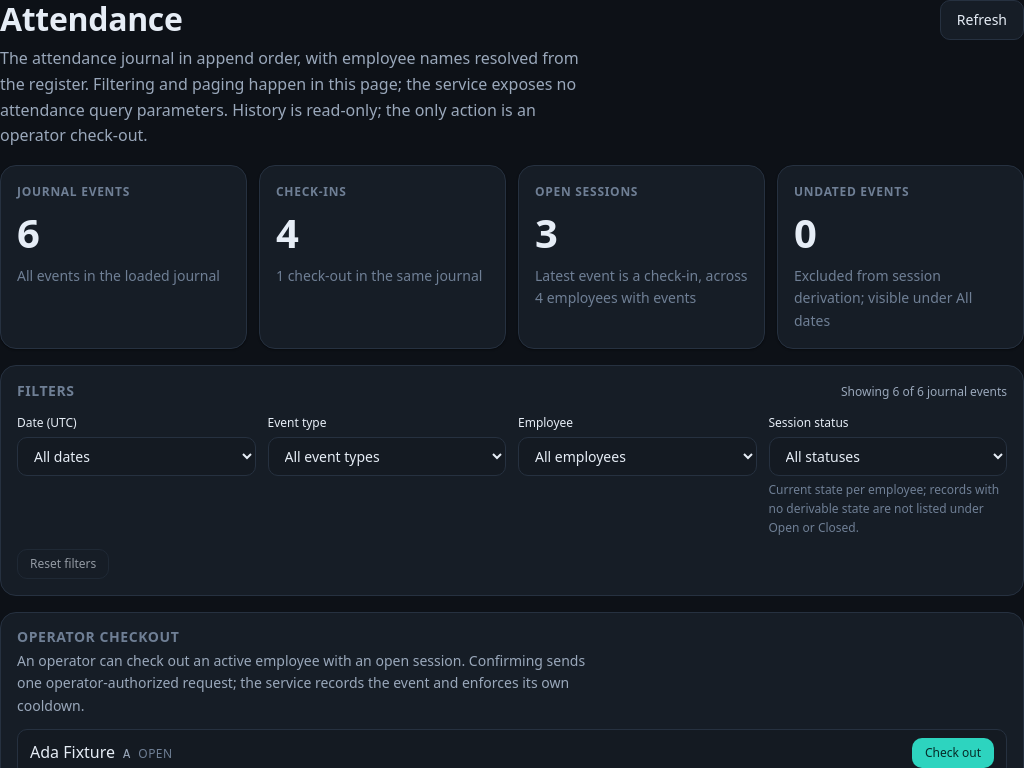
Test: checkout confirmation › cancel closes the dialog without sending a request
The width and height of the screenshot is (1024, 768).
Click the button with aria-label "Check out Ada Fixture": click(953, 753) [912,738,994,767]
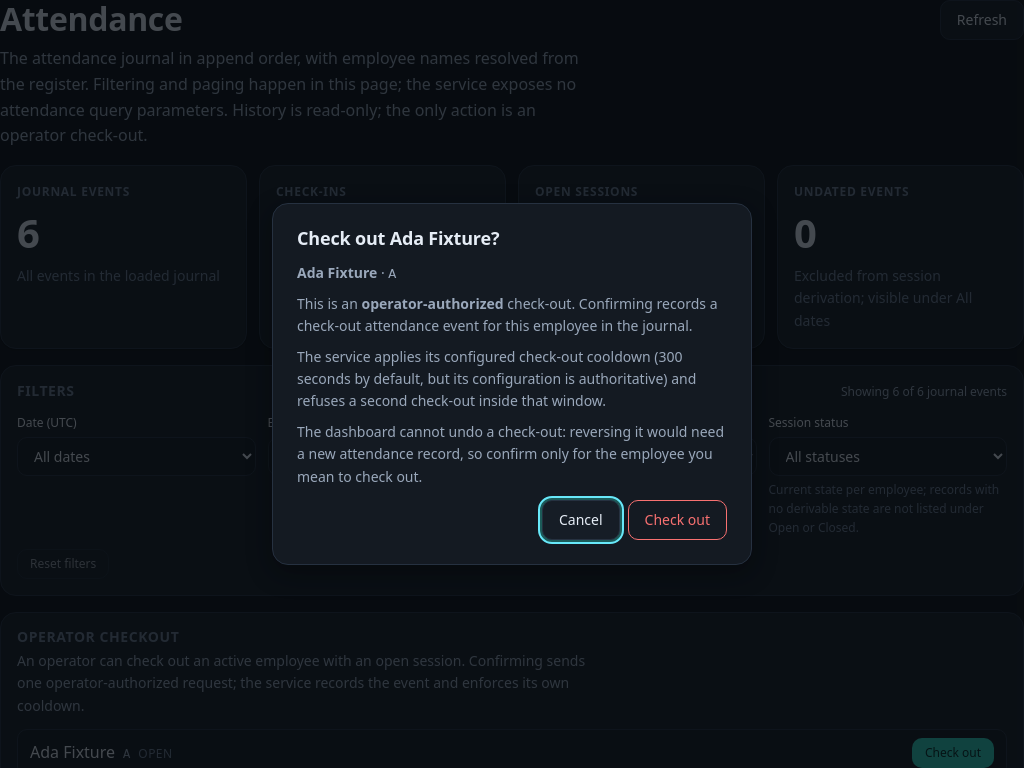
Click the button "Cancel": click(581, 520) [542,500,620,540]
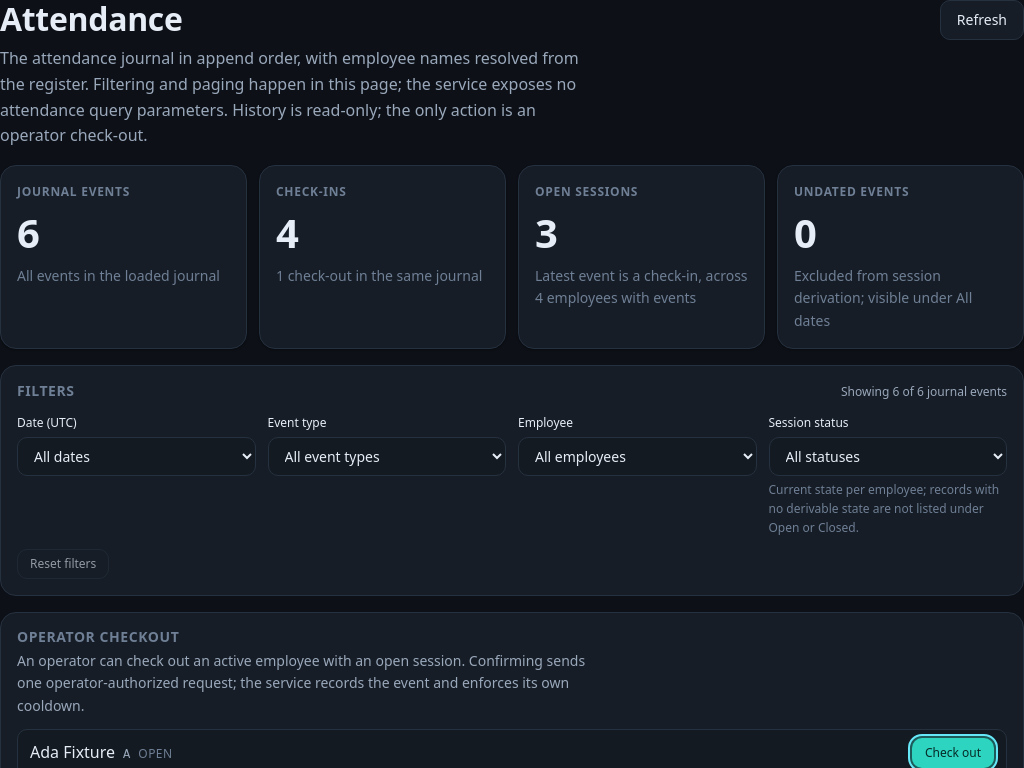
Result: the dialog is gone
